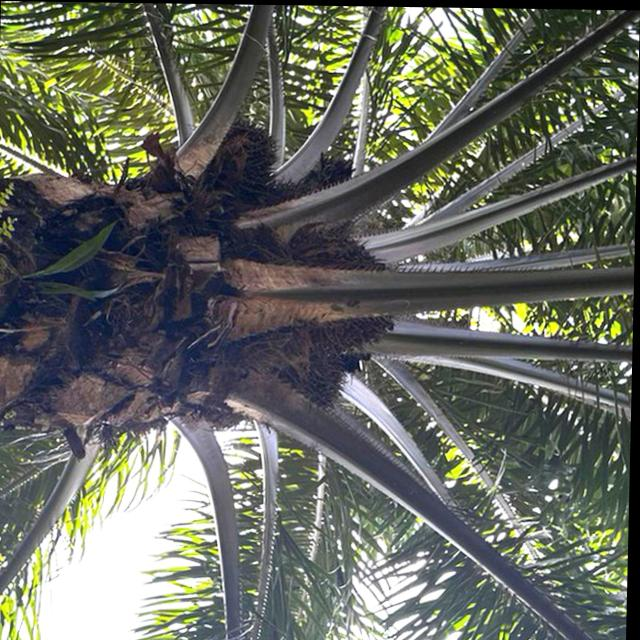ripe: (281, 241, 407, 350), (194, 121, 278, 204), (277, 351, 354, 412)
